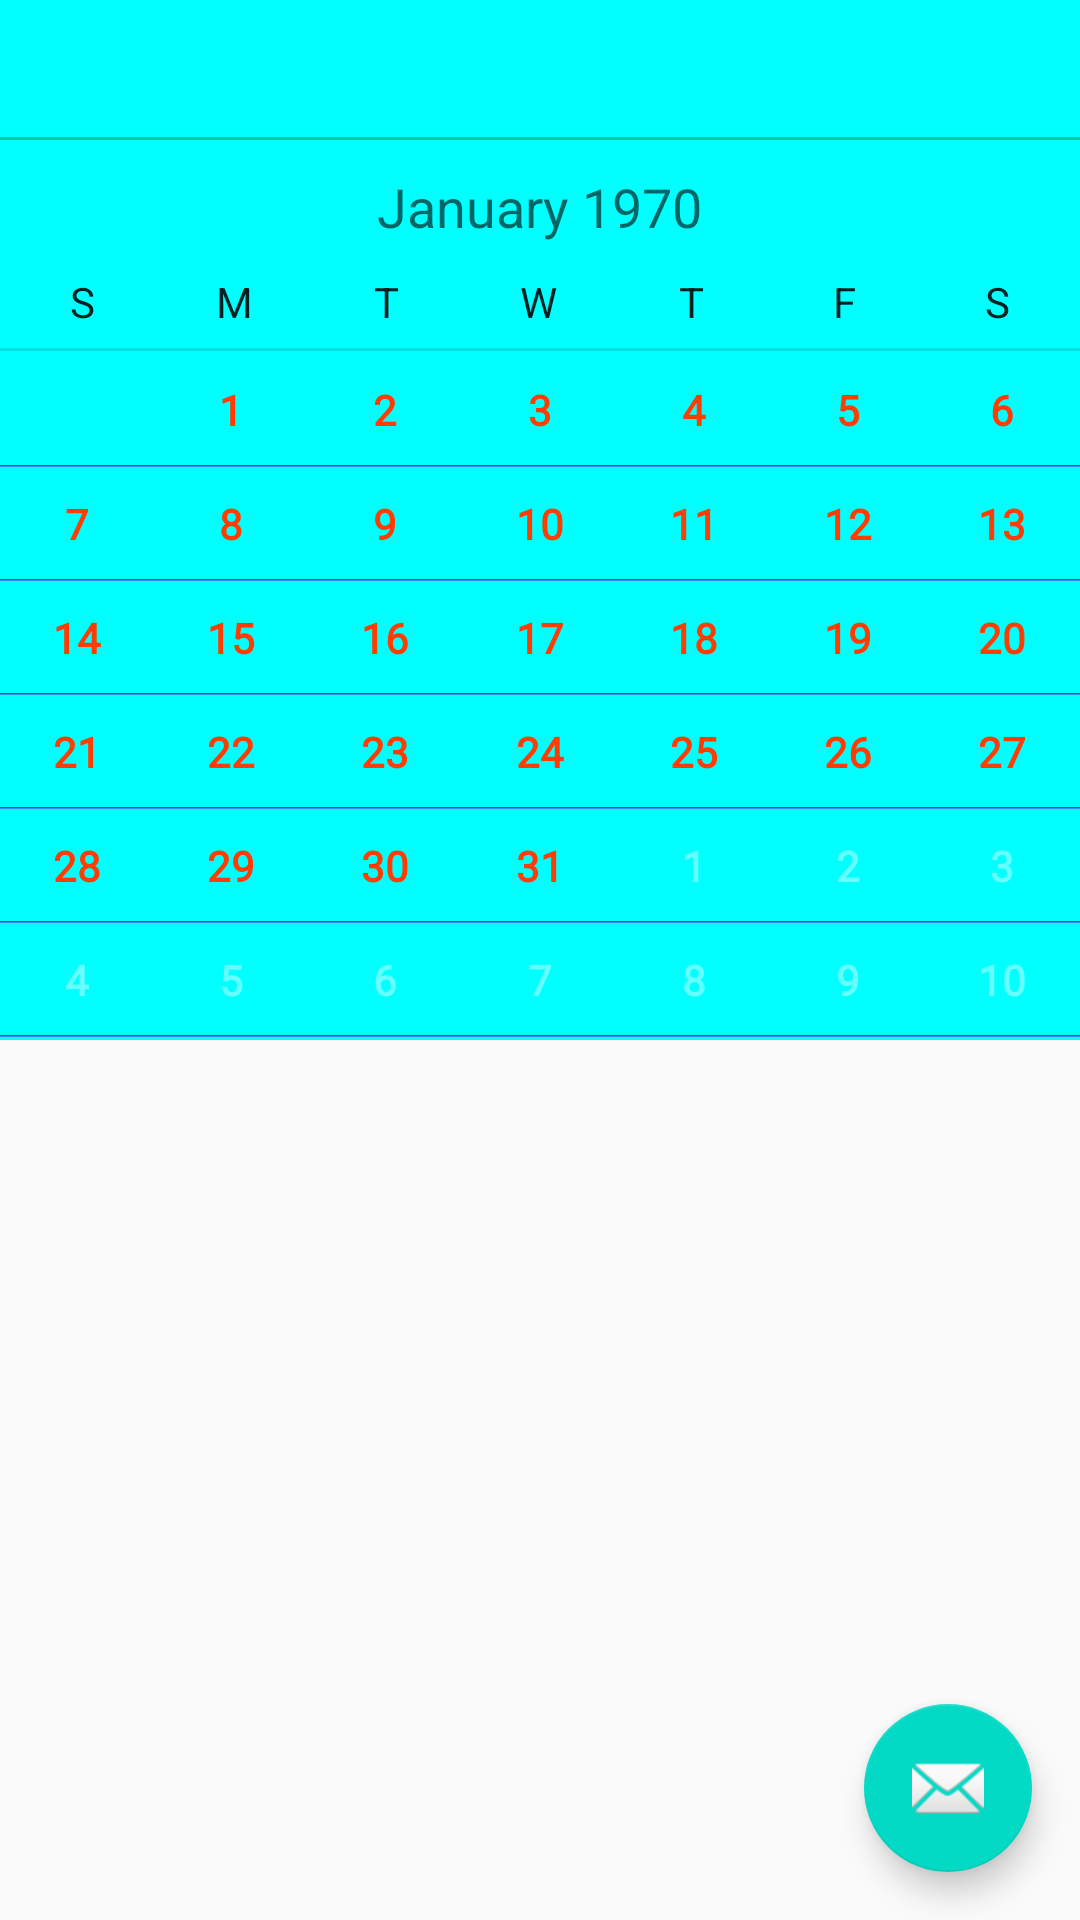

Icons on this 1080×1920 Android screen, each with the point to tap as [x,y]:
feedback: [948,1788]
